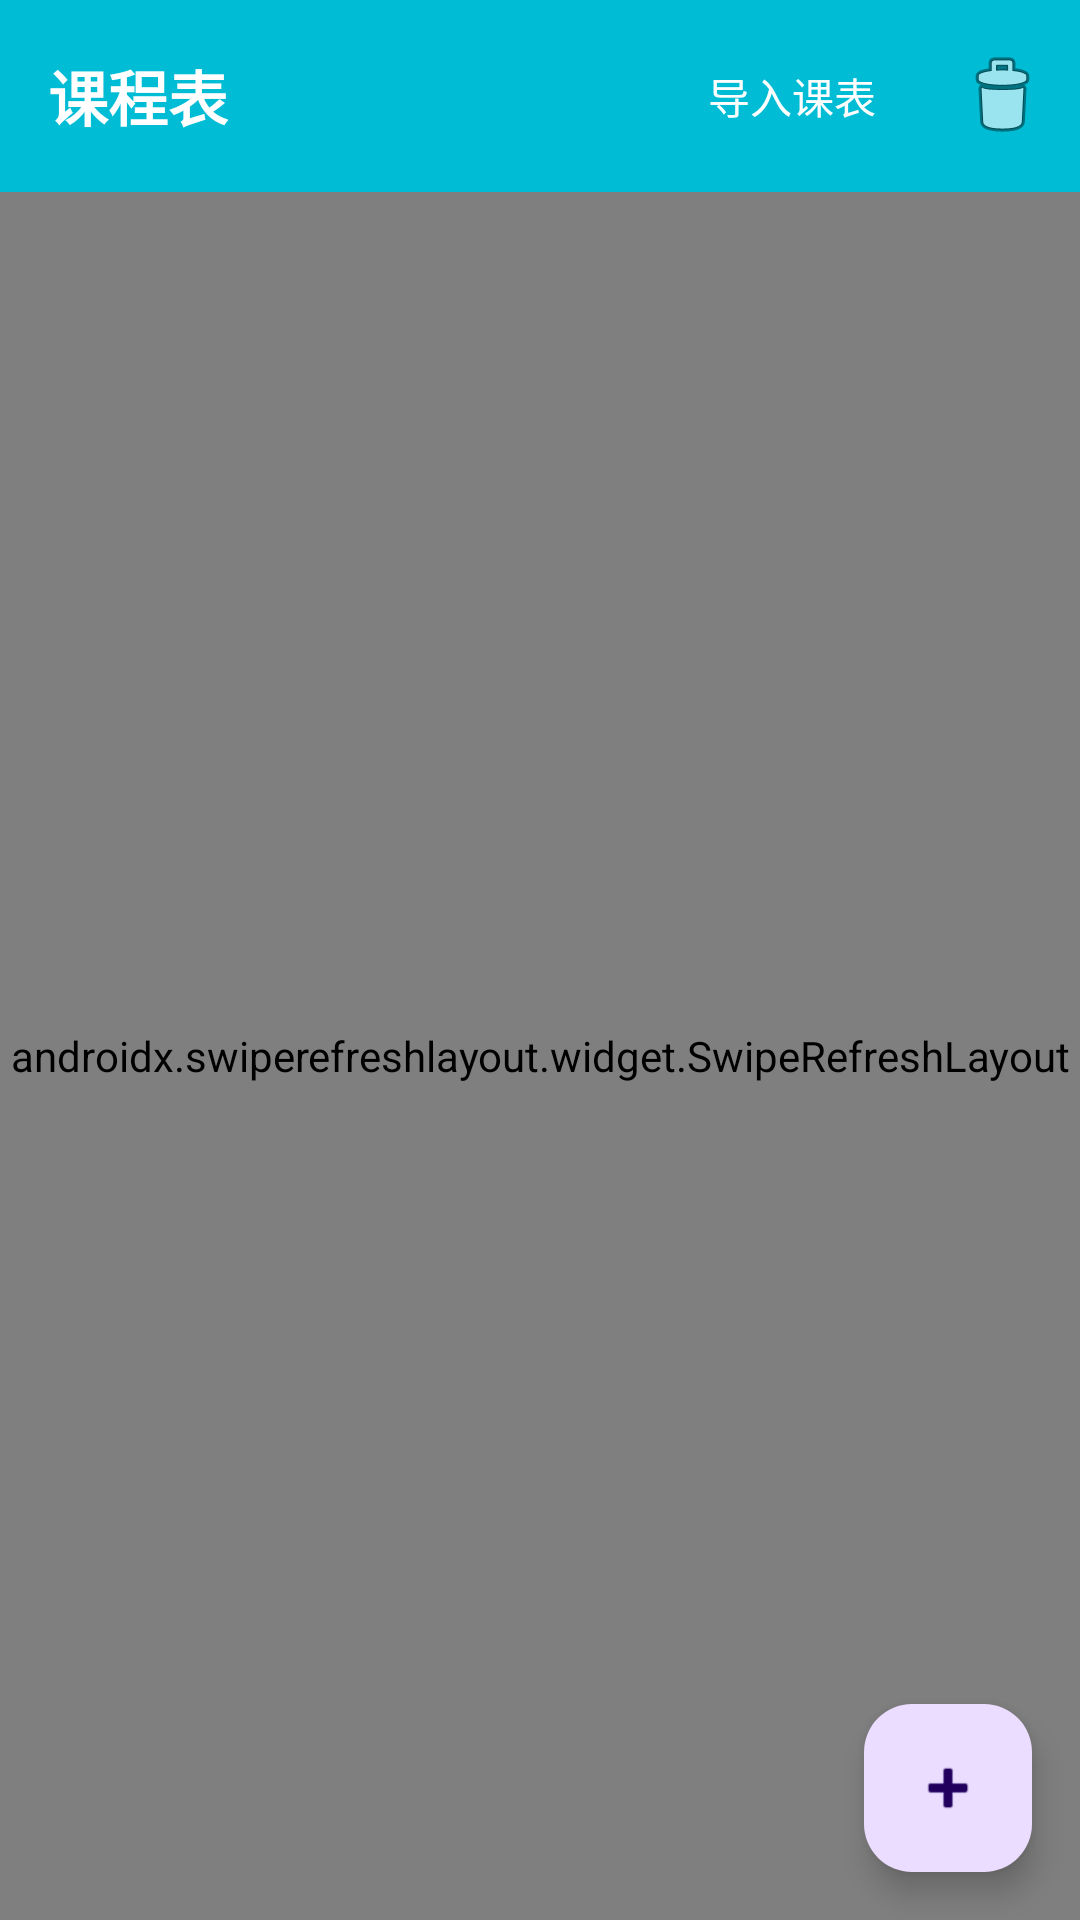

Icon click points for this 1080px x 1920px phone screenshot, format [x,y]:
批量删除: [1002,94]
添加课程: [948,1788]
